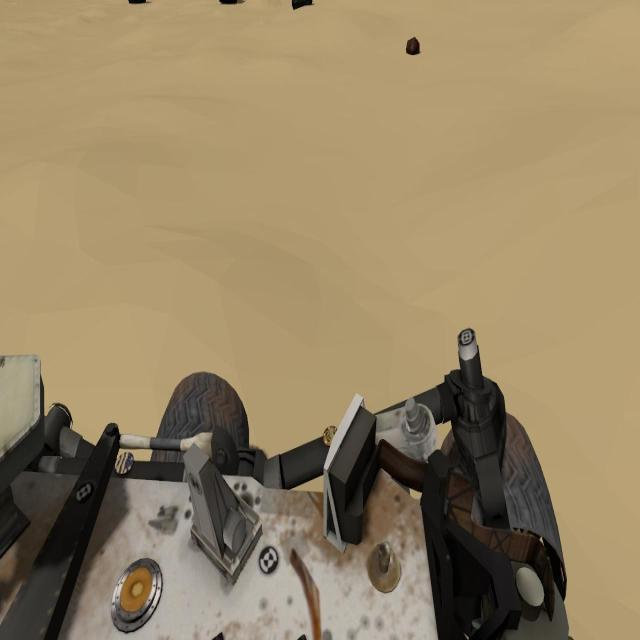rock: (406, 36, 420, 56), (292, 0, 314, 10)
